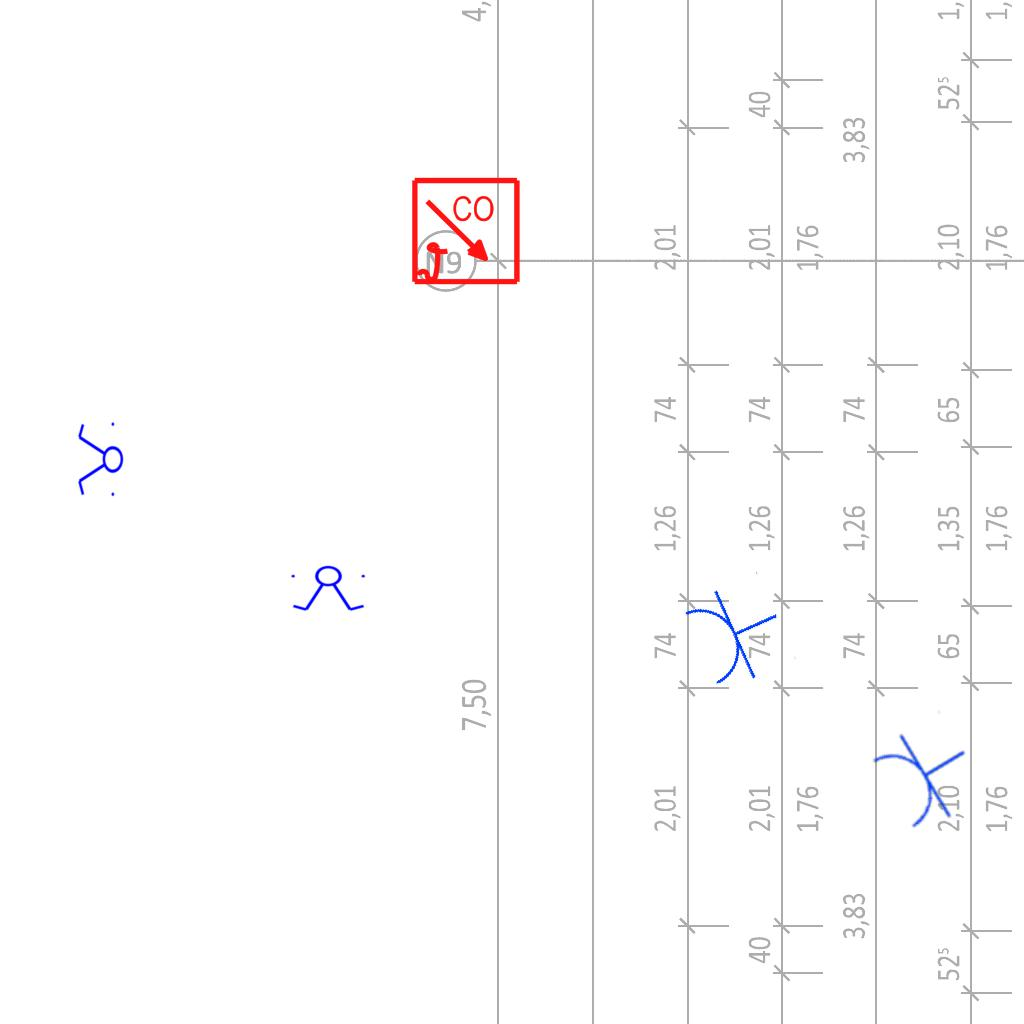ROA_Rauchmelder_optisch_mit_Signalgeber_(Sockelsirene): (410, 176, 523, 289)
Schukosteckdose_einfach: (863, 708, 991, 839), (676, 569, 798, 696)
Serienschalter: (287, 565, 371, 613), (76, 418, 124, 502)
